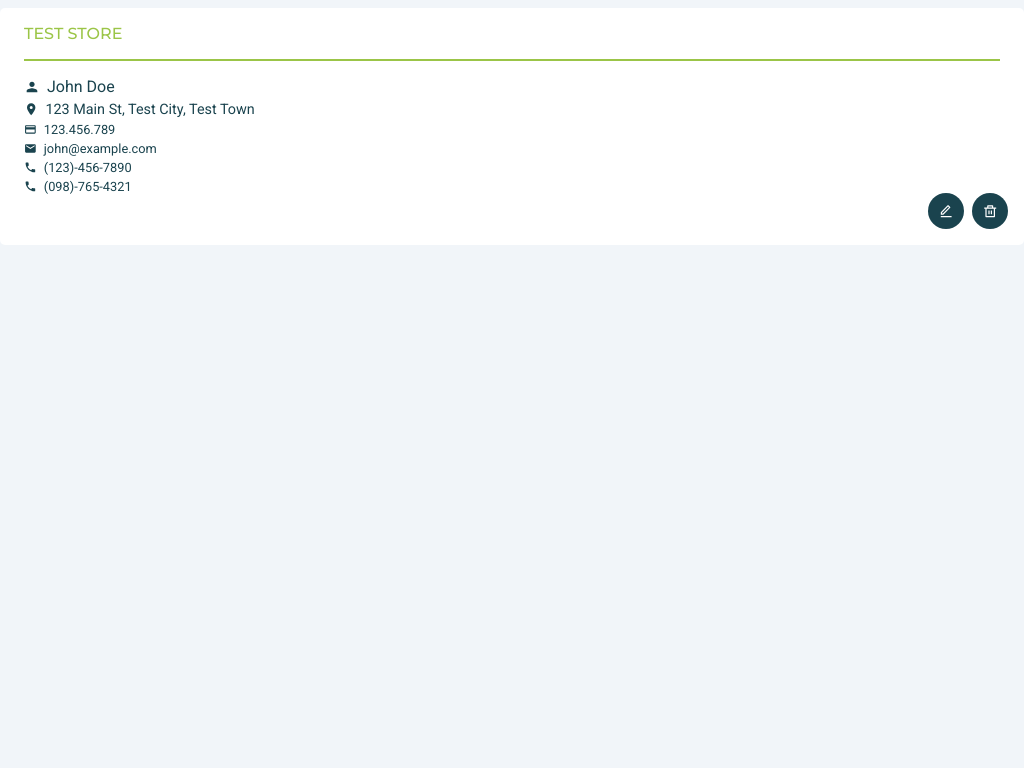
Scenario: CustomerCard › closes modal when cancel button is clicked
This screenshot has width=1024, height=768.
Click the button named "eliminar cliente". click: (990,211)
box: [972,193,1008,229]
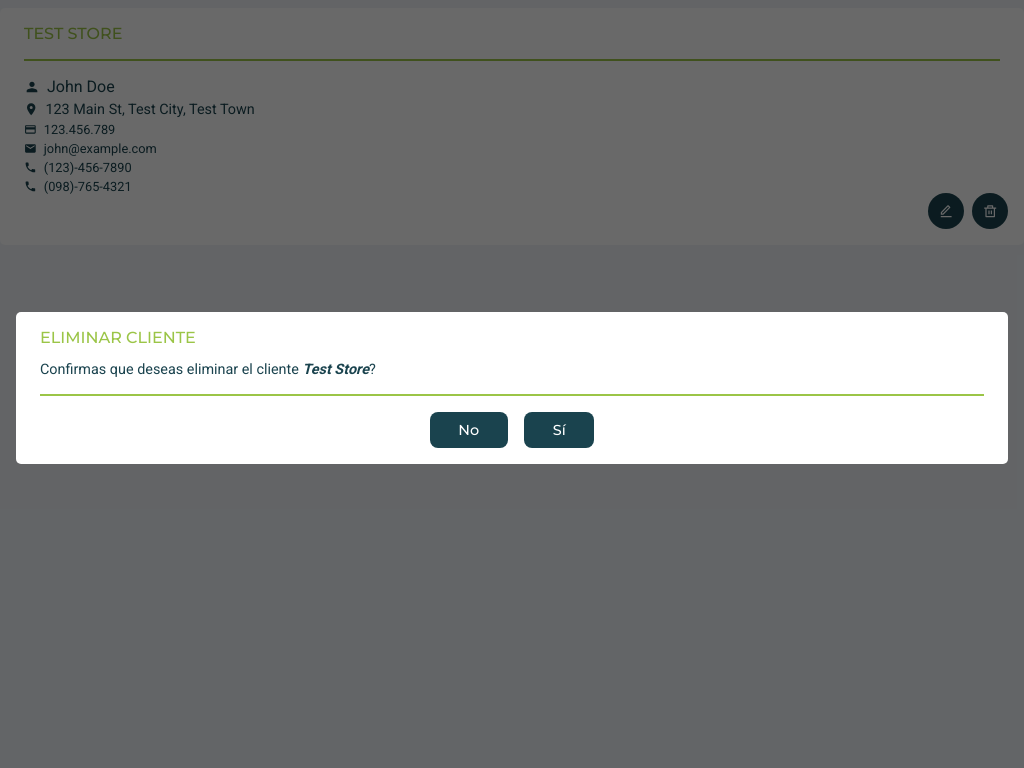
Expected: the dialog is shown
# Click cancel button
Click the button "No". click: (469,430)
box: [430,412,508,448]
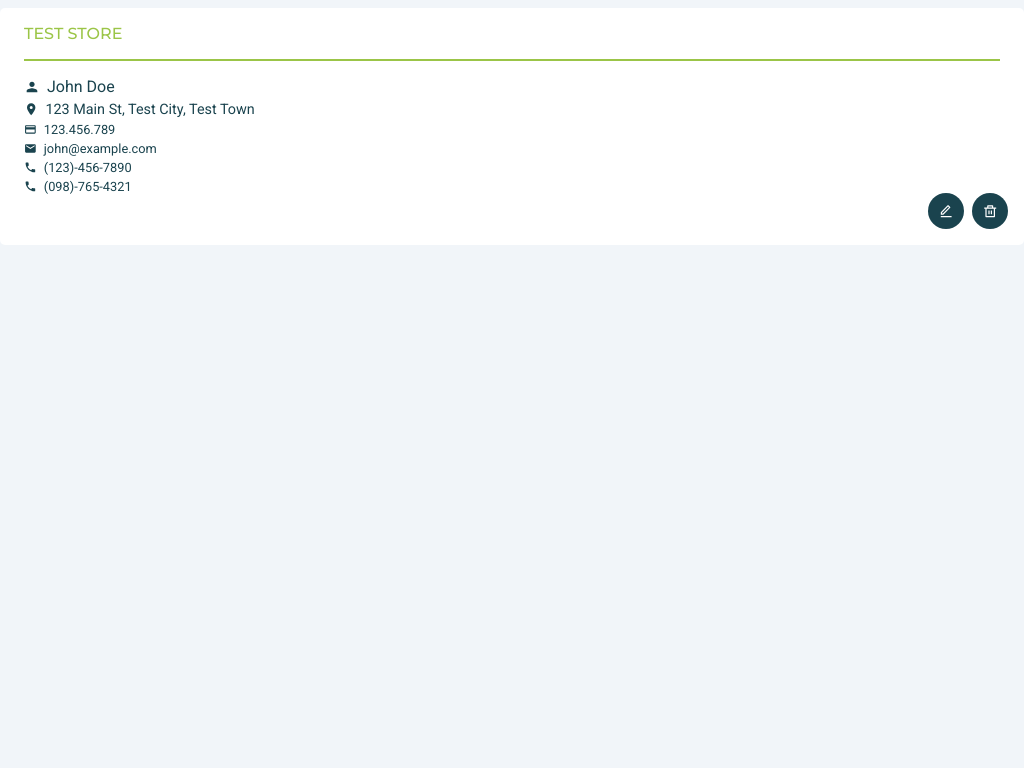
Expected: the dialog is gone
